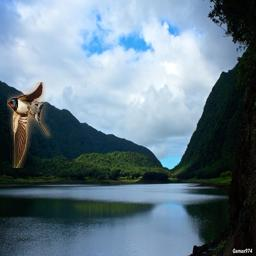Swallow: (7, 82, 58, 168)
